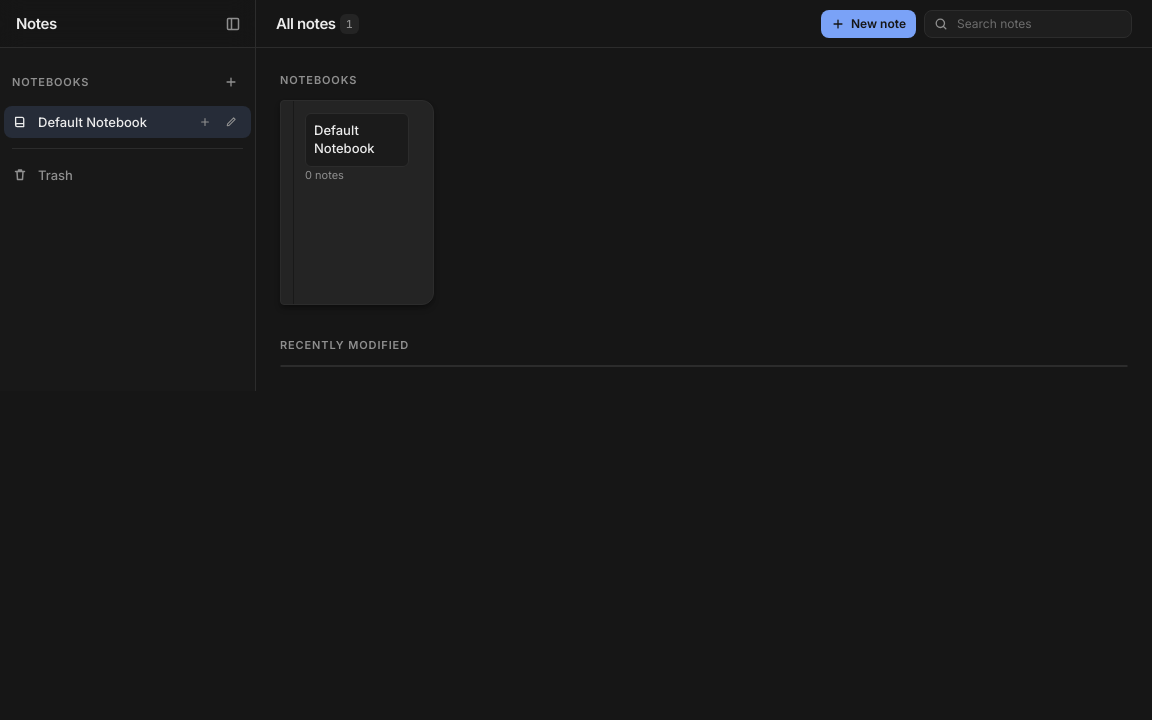
Test: NotesView, right-clicking a notebook cover › offers open and rename, and no delete for the default notebook
Step 1. Right-click the button "Default Notebook 0 notes" → (357, 202), box [280,100,434,305]
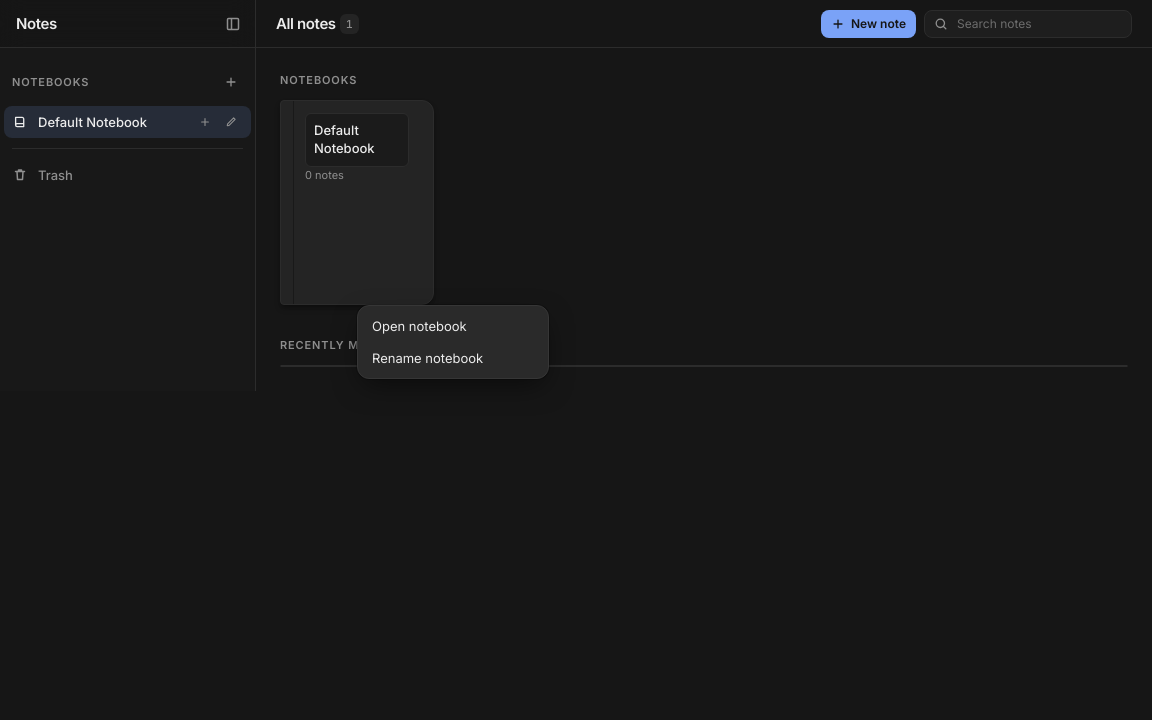
Result: the menu item "Open notebook" is shown at [362,310,544,342]
Step 2. Click the menu item "Rename notebook" → (453, 358), box [362,342,544,374]
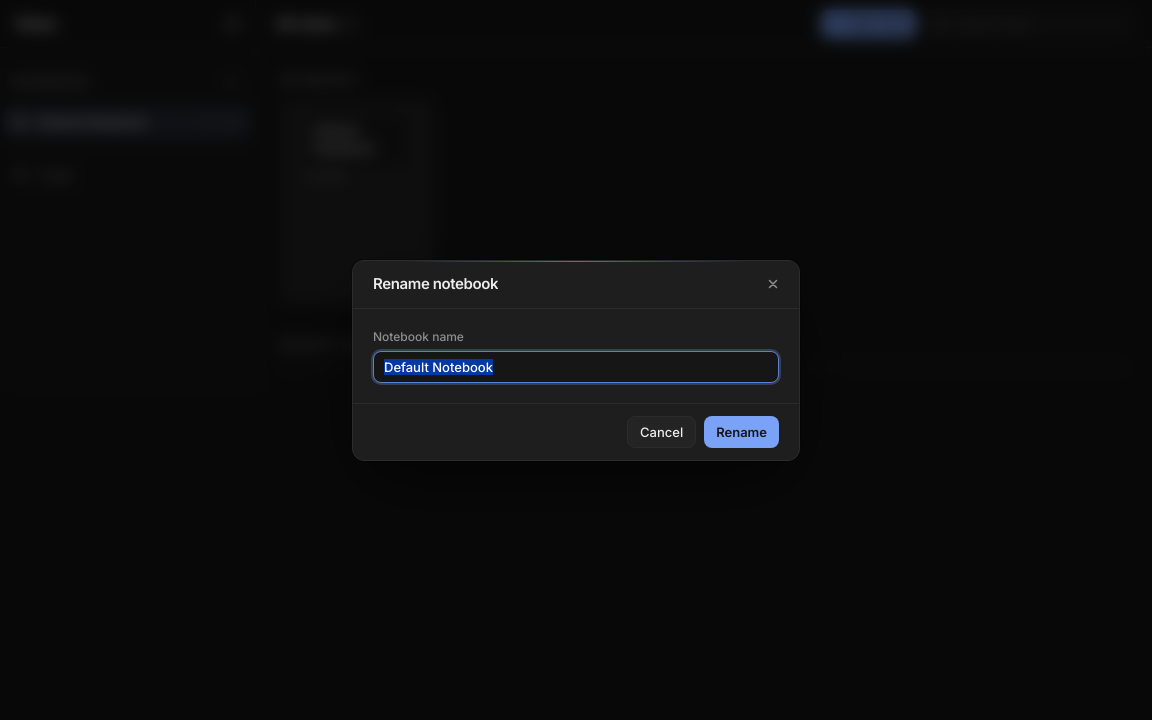
Result: the dialog "Rename notebook" is shown at [352,260,800,460]
